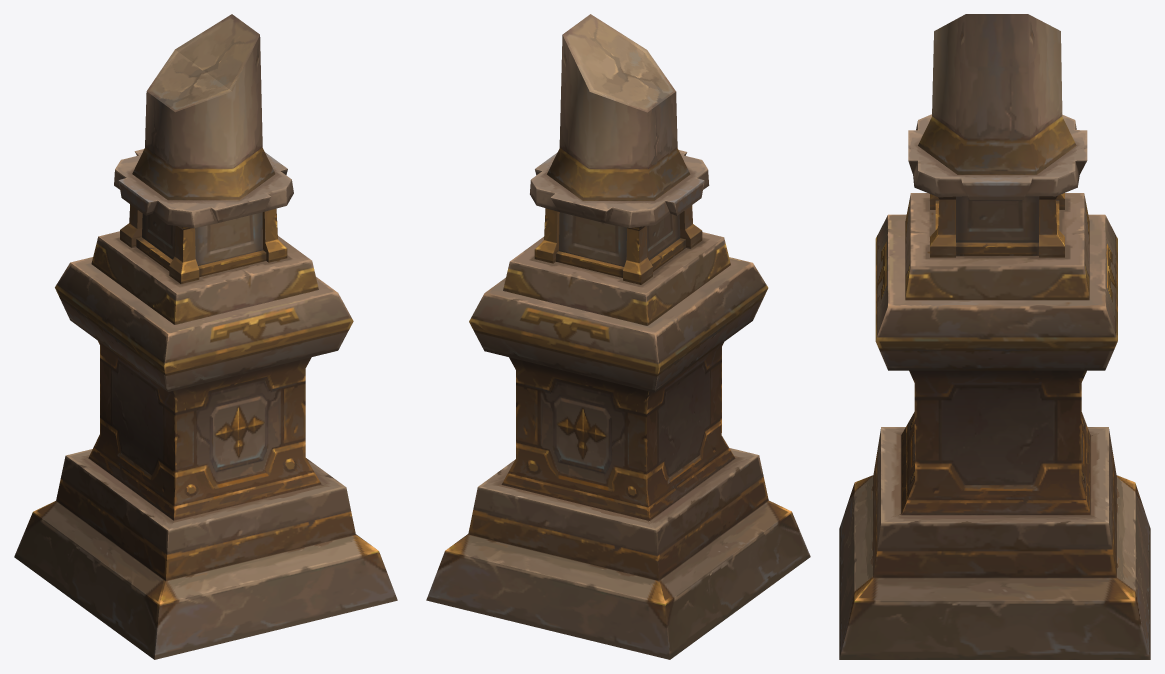
The model's file is fb_jjc_zj_04_b.FBX.
3 views of the same model, side by side, from view 1: azimuth 30°, elevation 25°; view 2: azimuth 150°, elevation 25°; view 3: azimuth 270°, elevation 25° (orthographic). The views are drawn at different scales.
Visible parts, largest first — view 1: fb_jjc_zj_04_b; view 2: fb_jjc_zj_04_b; view 3: fb_jjc_zj_04_b.
Boxes of the visible parts, left/top/right/bottom form: fb_jjc_zj_04_b: left=14, top=14, right=397, bottom=659; fb_jjc_zj_04_b: left=426, top=14, right=810, bottom=659; fb_jjc_zj_04_b: left=839, top=14, right=1150, bottom=659.
Bounding box in the file's own units: 265 × 565 × 265.
